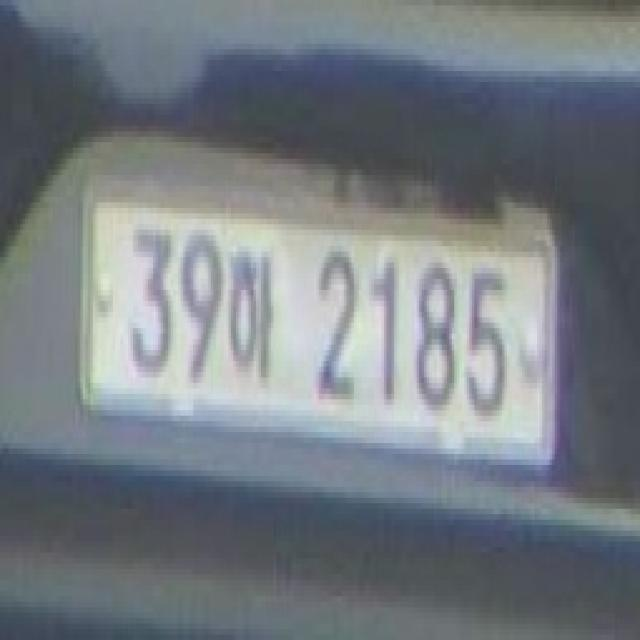1: (372, 257, 402, 405)
2: (314, 246, 359, 405)
3: (128, 225, 173, 378)
5: (462, 263, 507, 421)
8: (414, 263, 457, 410)
9: (181, 230, 223, 383)
ha: (226, 241, 276, 383)
license_plate: (80, 175, 557, 470)
